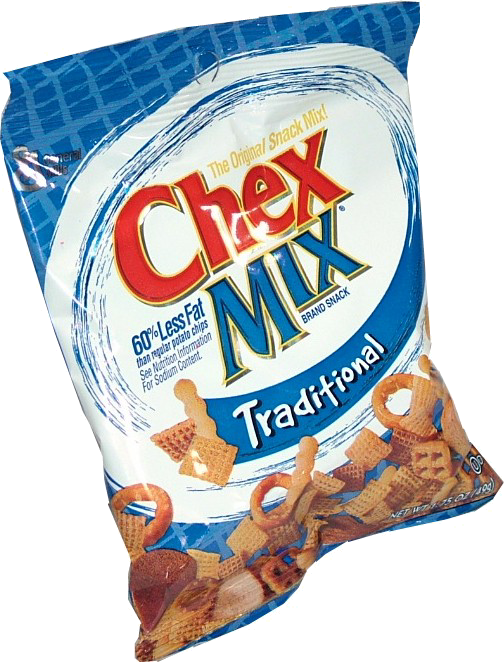grozi_2: (0, 0, 504, 662)
